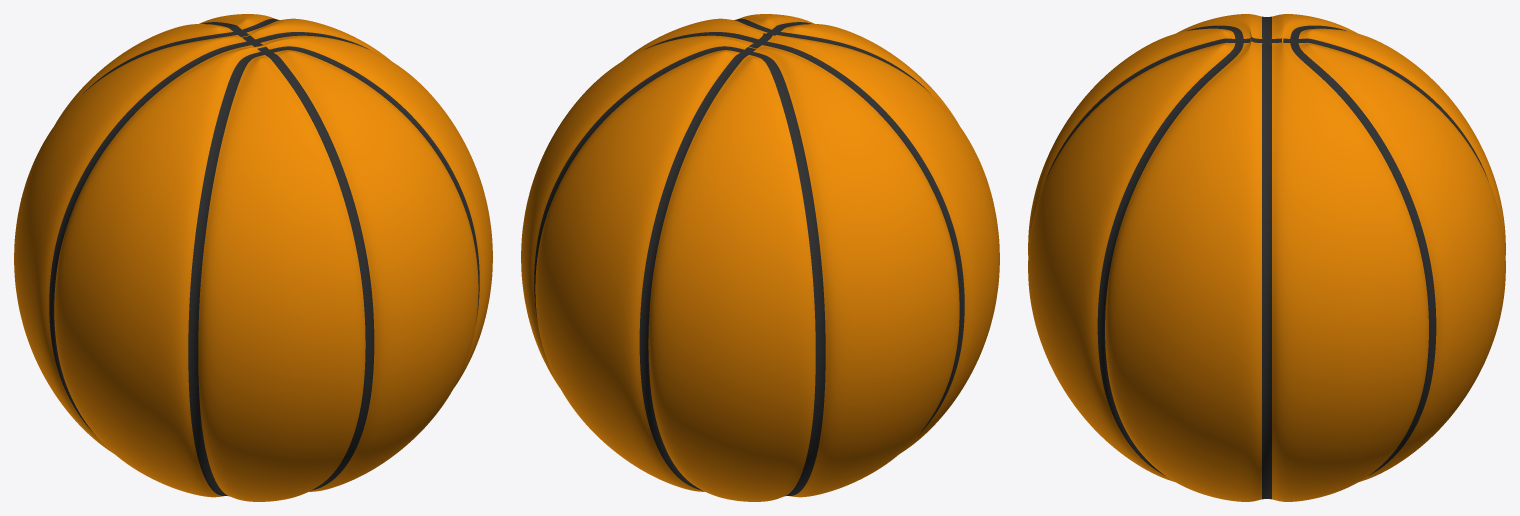
Rendered from pelota de basket.fbx.
3 renders of one model, left to right at view 1: azimuth 30°, elevation 25°; view 2: azimuth 150°, elevation 25°; view 3: azimuth 270°, elevation 25°, orthographic.
Parts seen in each view (by area): view 1: Sphere; view 2: Sphere; view 3: Sphere.
Boxes of the visible parts, box(x1,y1,x2,y2) form: Sphere: box(14, 14, 492, 501); Sphere: box(521, 14, 999, 501); Sphere: box(1028, 14, 1505, 501).
Bounding box in the file's own units: 138 × 141 × 138.
Materials: 1 (1 with a texture image).
